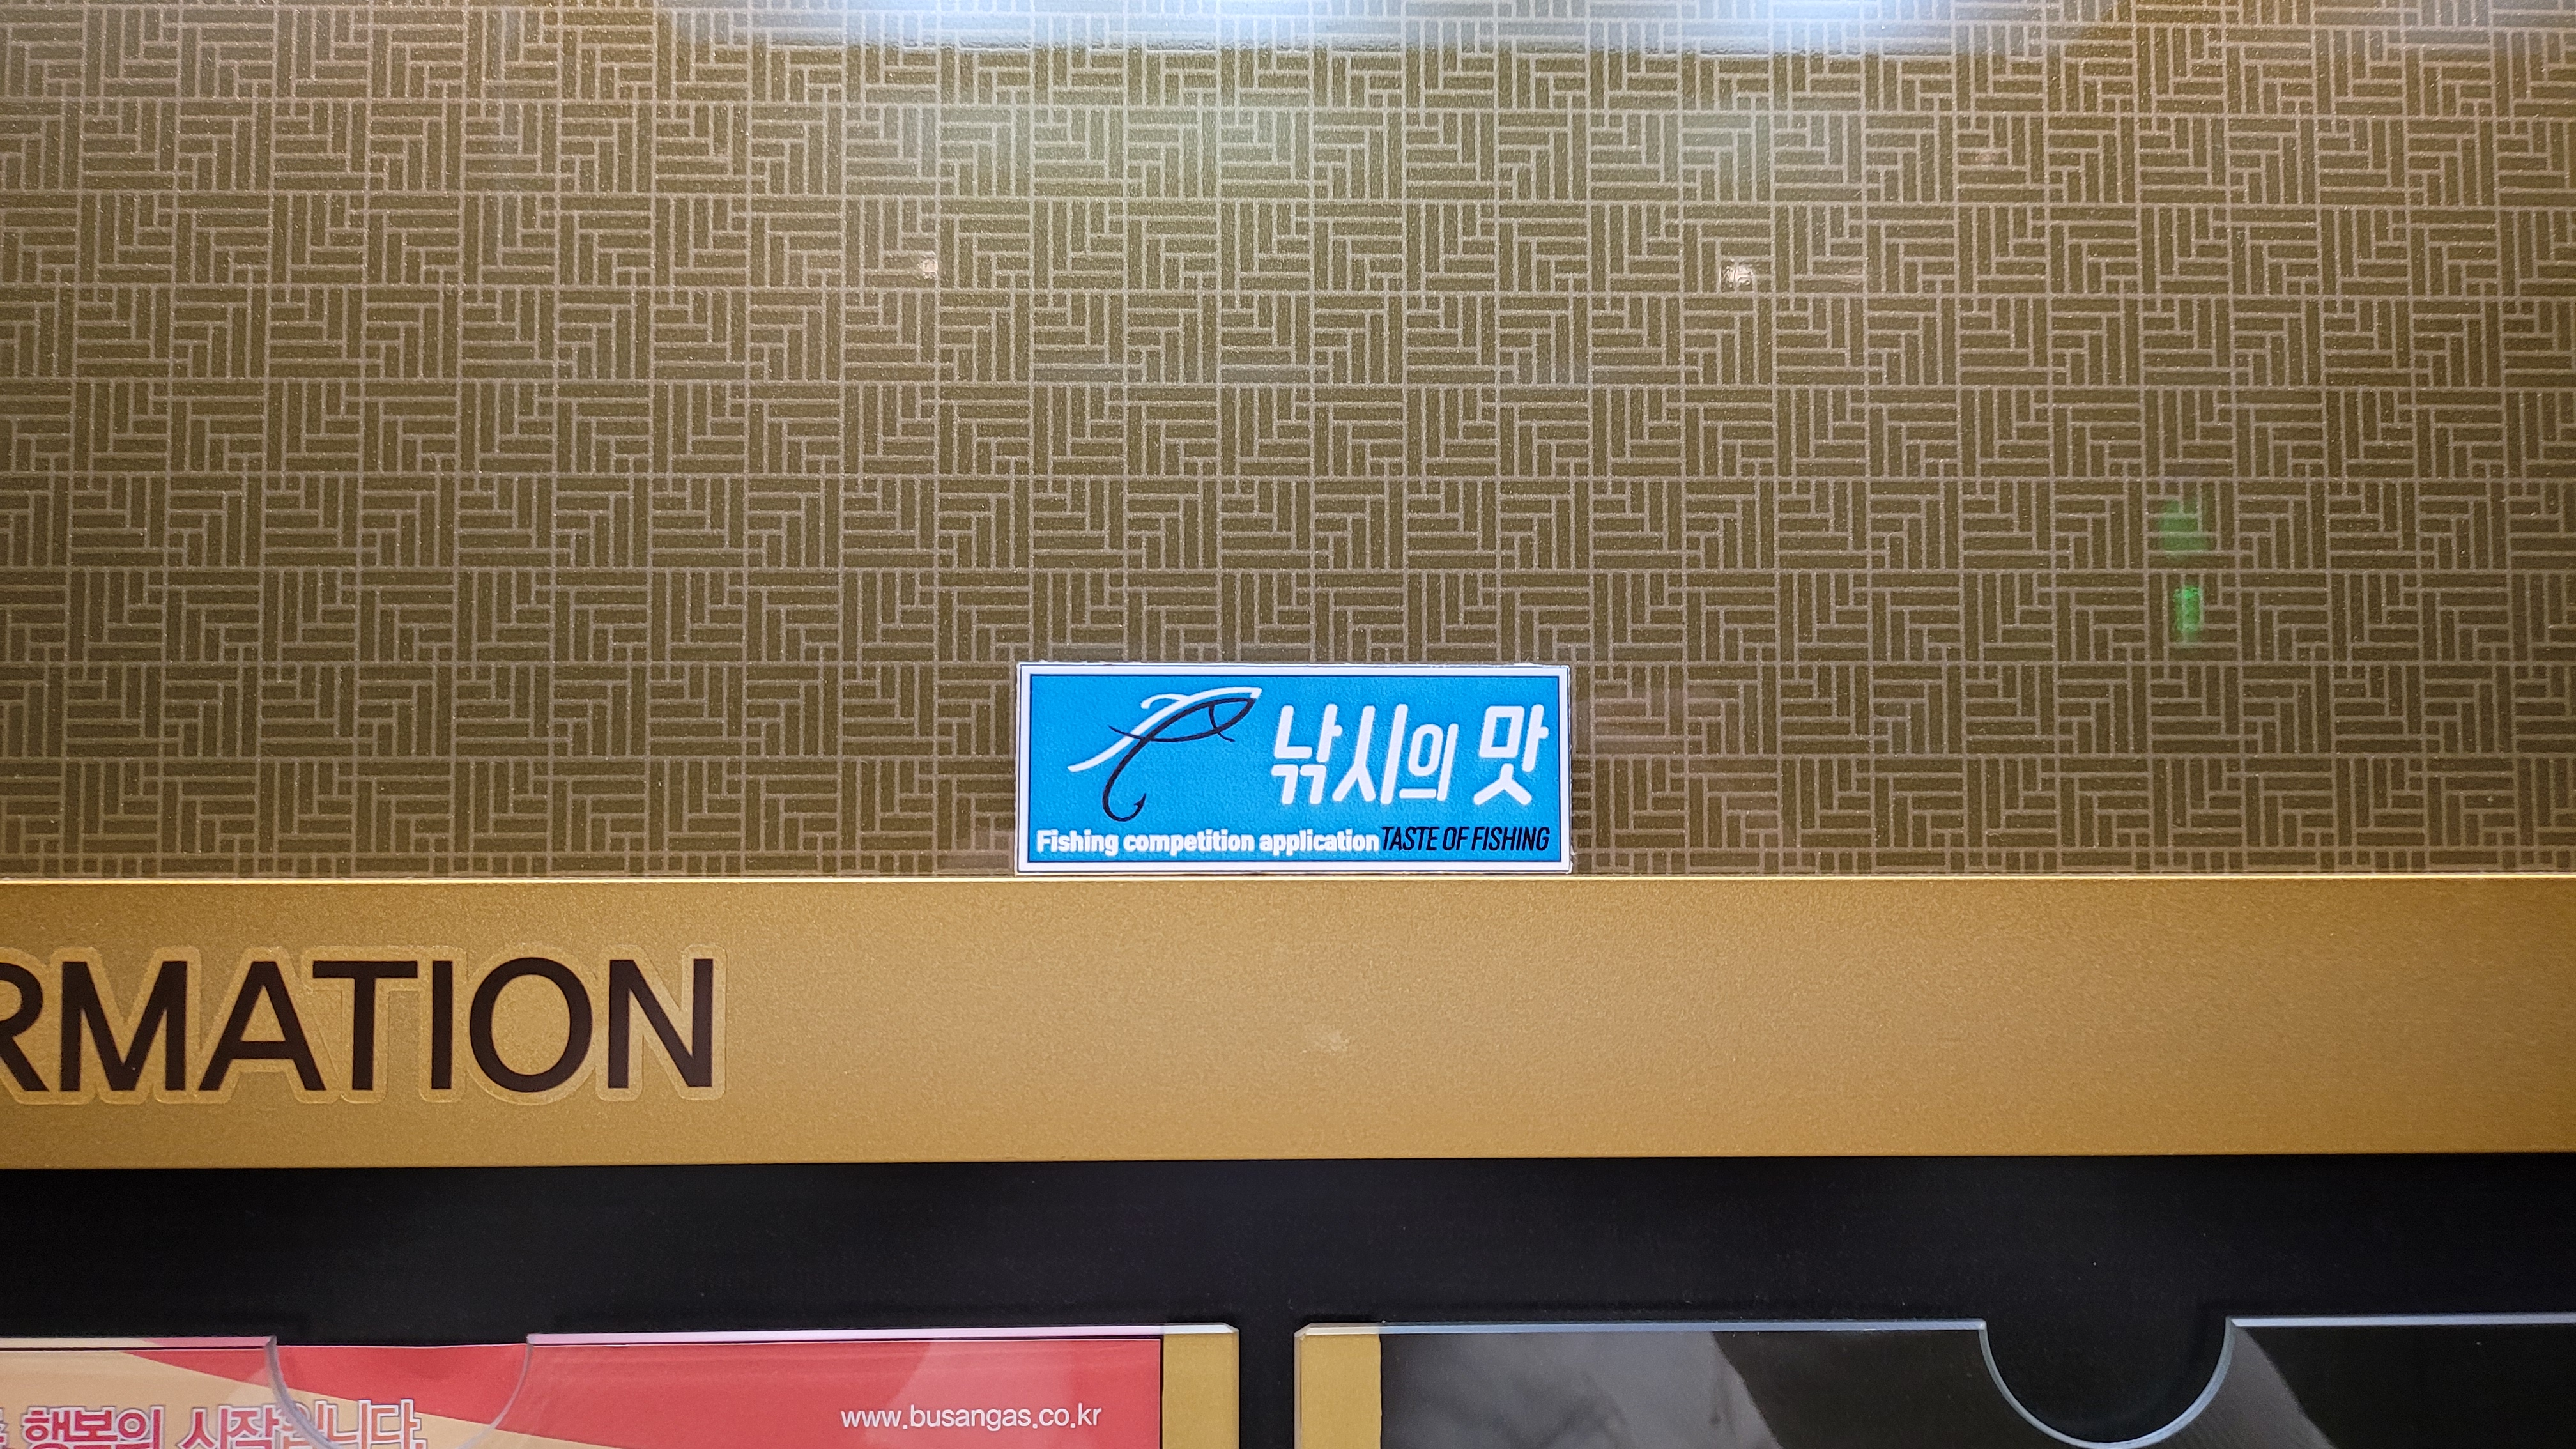tag: (1016, 658, 1571, 870)
